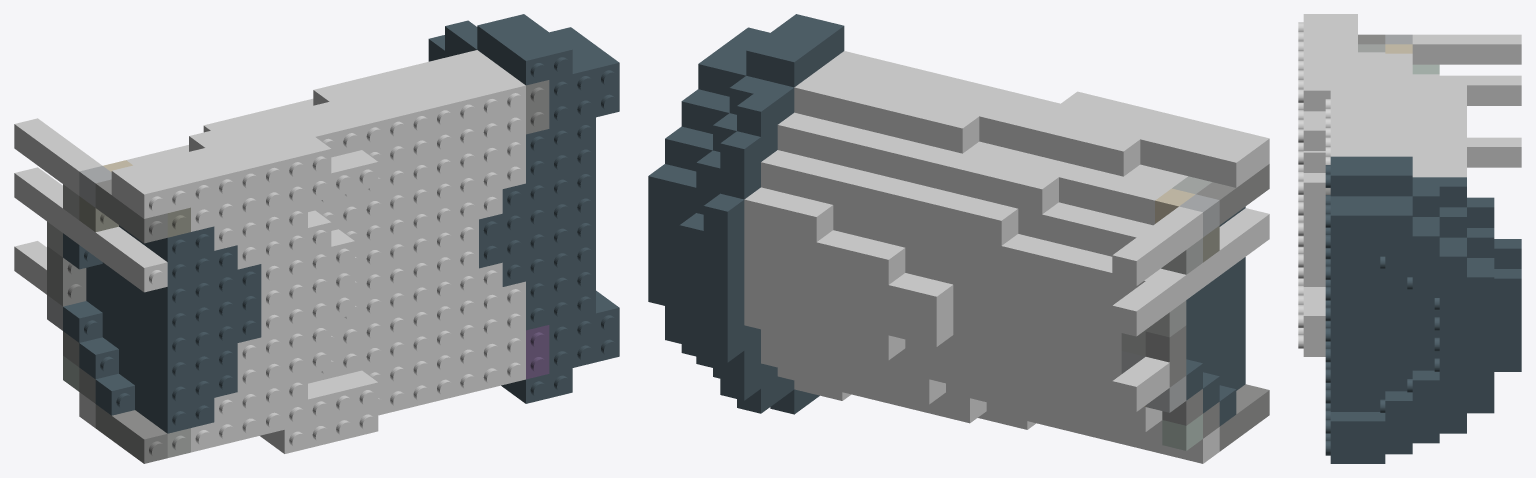
The model's file is full.glb.
The picture shows the model from 3 angles, left to right: view 1: azimuth 30°, elevation 25°; view 2: azimuth 150°, elevation 25°; view 3: azimuth 270°, elevation 25°; orthographic projection. The views are drawn at different scales.
Parts seen in each view (by area): view 1: world; view 2: world; view 3: world.
Part boxes in pixels (left/top/right/bottom): world: left=14, top=14, right=619, bottom=463; world: left=648, top=14, right=1269, bottom=463; world: left=1298, top=14, right=1521, bottom=463.
Bounding box in the file's own units: 168 × 112 × 78.6.
